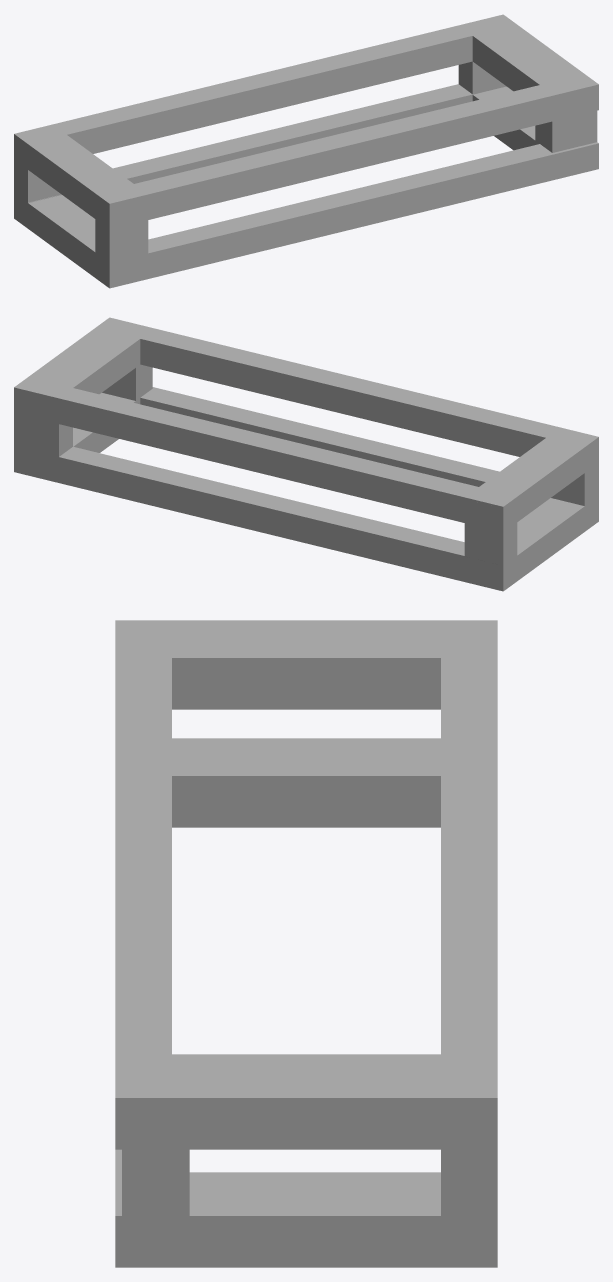
The model's file is JumpDrive_Small_Constr1.fbx.
3 renders of one model, top to bottom at view 1: azimuth 30°, elevation 25°; view 2: azimuth 150°, elevation 25°; view 3: azimuth 270°, elevation 25°, orthographic. The views are drawn at different scales.
Visible parts, largest first — view 1: Cube.002; view 2: Cube.002; view 3: Cube.002.
Part boxes in pixels (bbox=[...]): Cube.002: bbox=[14, 14, 598, 288]; Cube.002: bbox=[14, 317, 598, 591]; Cube.002: bbox=[115, 620, 497, 1267].
Bounding box in the file's own units: 1.47 × 0.243 × 0.4972.
